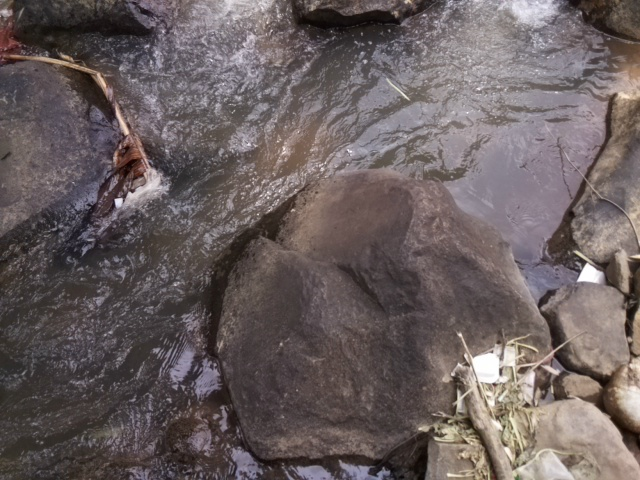Sampah_Styrofoam: (474, 353, 501, 385)
